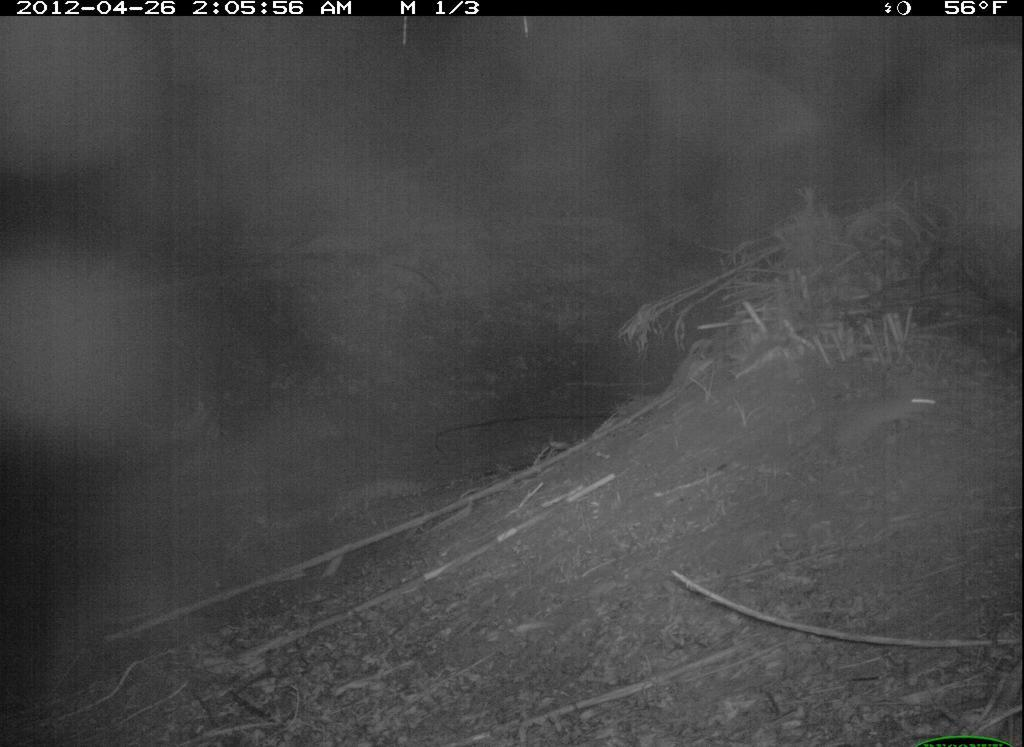rabbit: (798, 354, 962, 464)
